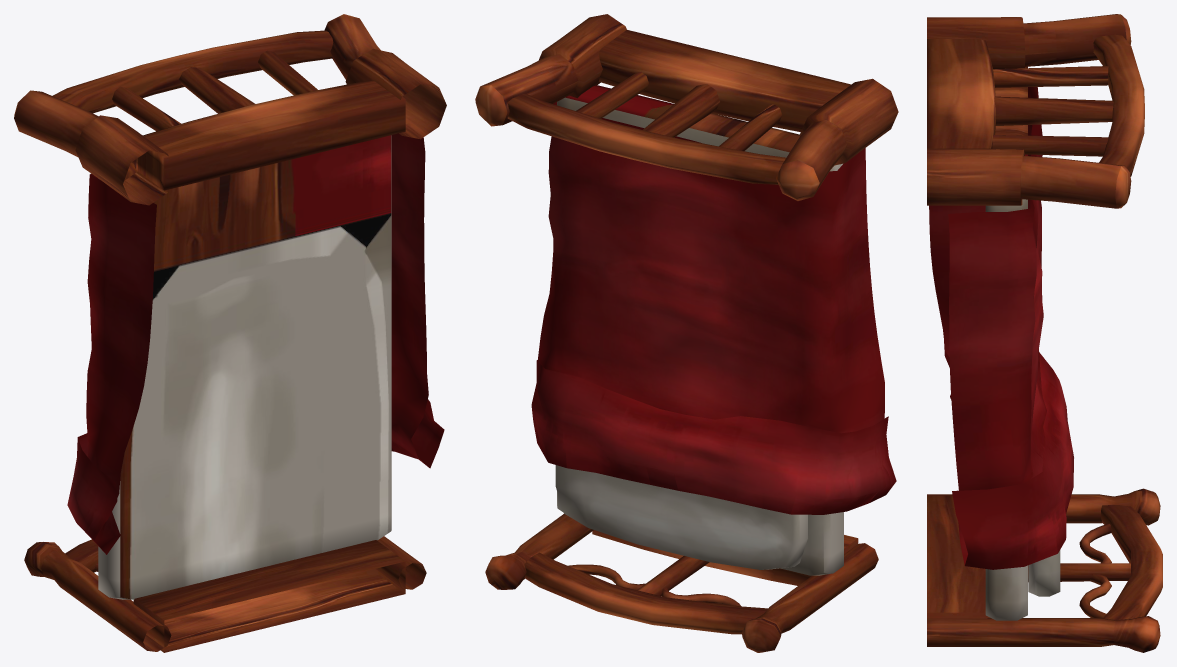
The model's file is Cama Fin.FBX.
3 views of the same model, side by side, from view 1: azimuth 30°, elevation 25°; view 2: azimuth 150°, elevation 25°; view 3: azimuth 270°, elevation 25° (orthographic). The views are drawn at different scales.
Visible parts, largest first — view 1: Cama; view 2: Cama; view 3: Cama.
Boxes of the visible parts, x1=… form: Cama: x1=14, y1=14, x2=446, y2=652; Cama: x1=475, y1=14, x2=898, y2=652; Cama: x1=927, y1=14, x2=1162, y2=652.
Size of the model in its own units: 135 by 184 by 78.14.
Materials: 1 (1 with a texture image).
